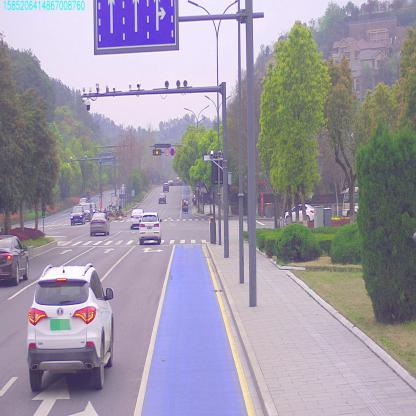traffic-light: (152, 147, 162, 156)
